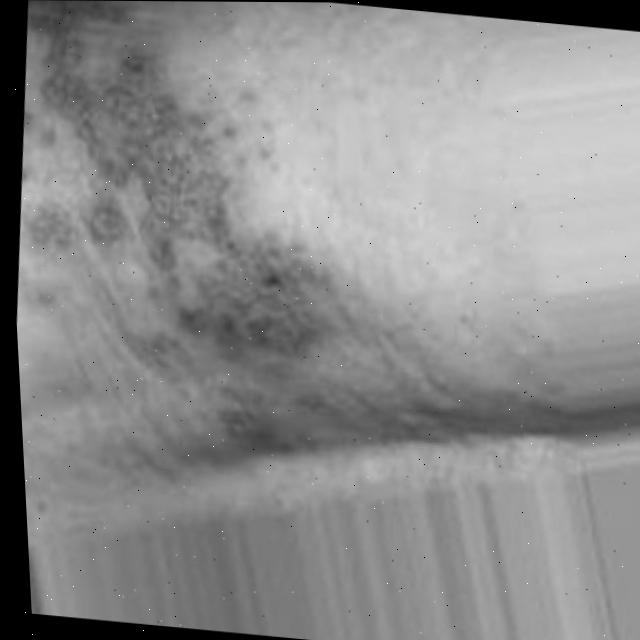Shingles: (1, 16, 358, 353)
